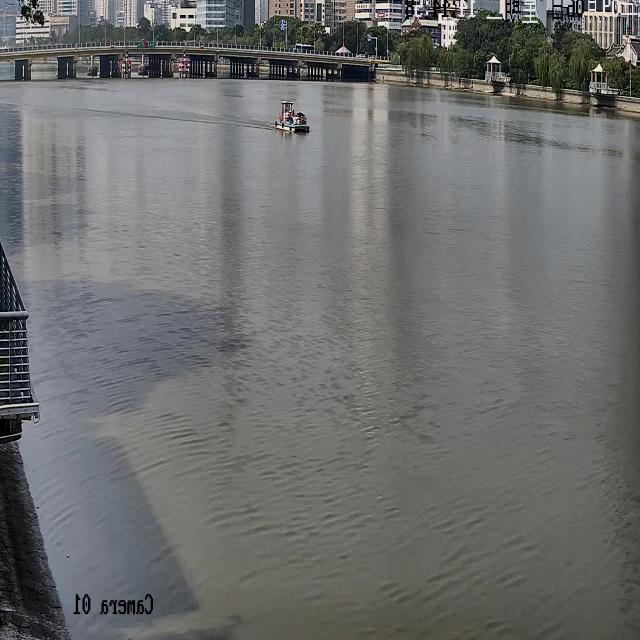ship: (275, 99, 309, 131)
